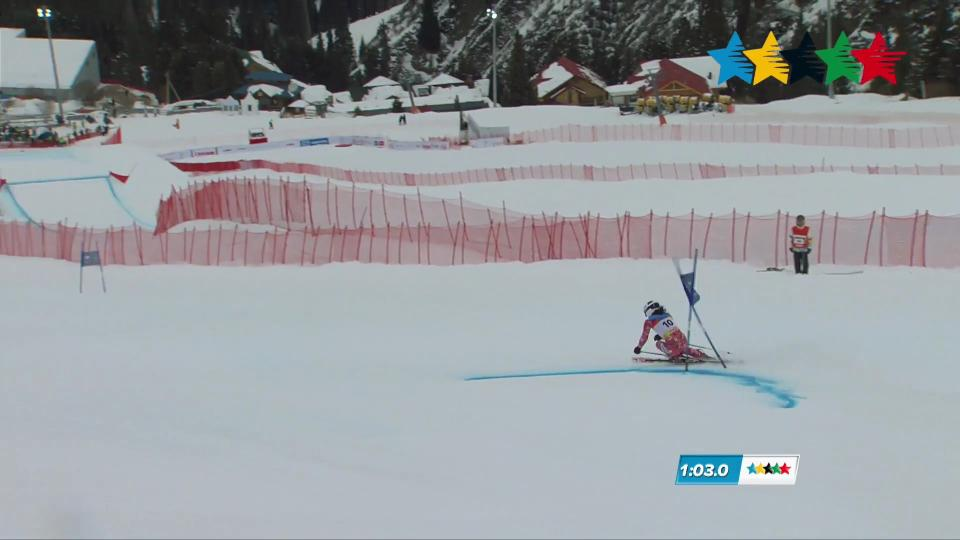gate: (678, 245, 728, 386)
